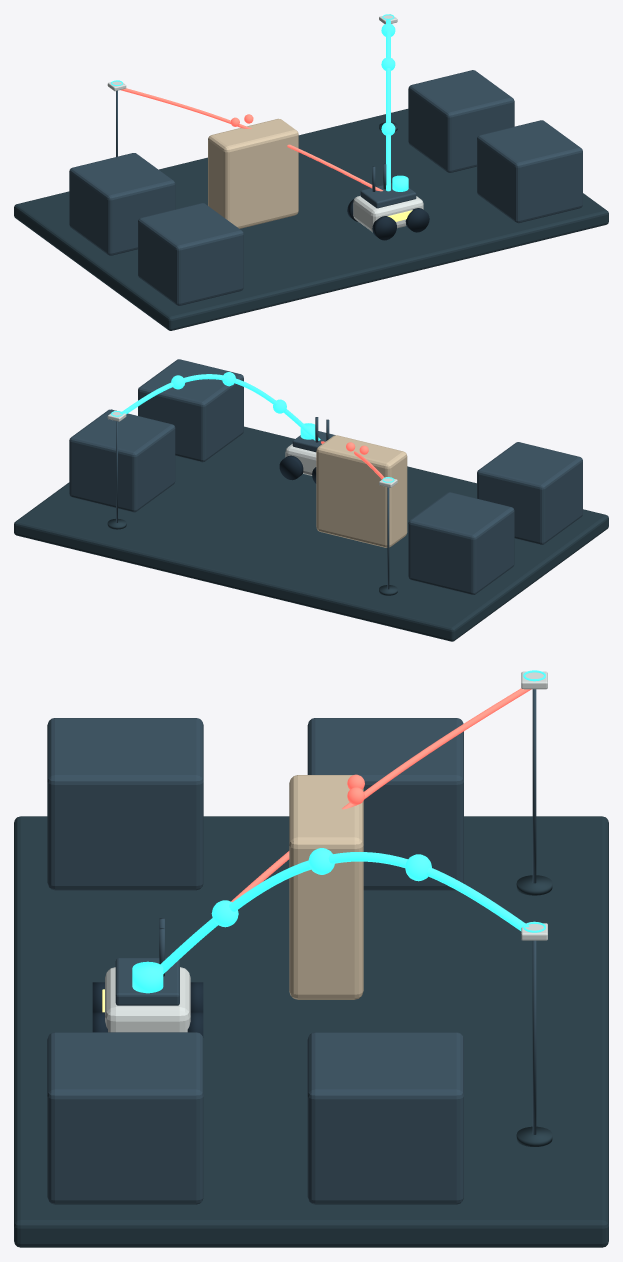
The model's file is diversity.glb.
3 renders of one model, top to bottom at view 1: azimuth 30°, elevation 25°; view 2: azimuth 150°, elevation 25°; view 3: azimuth 270°, elevation 25°, orthographic. The views are drawn at different scales.
Visible parts, largest first — view 1: Aisle, Rack, Rack.002, Occluding stock, Rack.003, Rack.001, Dual-radio robot_base, blocked path, Dual-radio robot_deck, independent path, Dual-radio robot_wheel, Dual-radio robot_wheel.002; view 2: Aisle, Rack.001, Rack.003, Occluding stock, Rack, Rack.002, independent path, Dual-radio robot_base, Dual-radio robot_wheel.003, Dual-radio robot_deck; view 3: Aisle, Rack, Rack.002, Rack.003, Rack.001, Occluding stock, independent path, Dual-radio robot_base, Dual-radio robot_deck, blocked path, AP A_mast, AP B_mast (+1 smaller).
Boxes of the visible parts, x1=… form: Aisle: x1=14, y1=109, x2=608, y2=330; Rack: x1=138, y1=203, x2=243, y2=305; Rack.002: x1=477, y1=120, x2=582, y2=223; Occluding stock: x1=208, y1=118, x2=298, y2=228; Rack.003: x1=408, y1=70, x2=514, y2=172; Rack.001: x1=69, y1=153, x2=175, y2=255; Dual-radio robot_base: x1=353, y1=195, x2=423, y2=232; blocked path: x1=120, y1=88, x2=383, y2=191; Dual-radio robot_deck: x1=360, y1=183, x2=416, y2=208; independent path: x1=386, y1=19, x2=390, y2=191; Dual-radio robot_wheel: x1=372, y1=216, x2=396, y2=240; Dual-radio robot_wheel.002: x1=405, y1=208, x2=429, y2=232; Aisle: x1=14, y1=426, x2=608, y2=641; Rack.001: x1=408, y1=492, x2=514, y2=594; Rack.003: x1=69, y1=409, x2=175, y2=512; Occluding stock: x1=316, y1=435, x2=407, y2=547; Rack: x1=477, y1=442, x2=582, y2=544; Rack.002: x1=138, y1=359, x2=243, y2=462; independent path: x1=120, y1=374, x2=320, y2=440; Dual-radio robot_base: x1=285, y1=444, x2=316, y2=475; Dual-radio robot_wheel.003: x1=279, y1=455, x2=303, y2=480; Dual-radio robot_deck: x1=292, y1=431, x2=335, y2=452; Aisle: x1=14, y1=816, x2=608, y2=1247; Rack: x1=47, y1=718, x2=203, y2=890; Rack.002: x1=47, y1=1032, x2=203, y2=1204; Rack.003: x1=307, y1=1032, x2=463, y2=1204; Rack.001: x1=307, y1=718, x2=463, y2=890; Occluding stock: x1=289, y1=775, x2=363, y2=999; independent path: x1=160, y1=852, x2=529, y2=973; Dual-radio robot_base: x1=105, y1=967, x2=190, y2=1032; Dual-radio robot_deck: x1=115, y1=958, x2=179, y2=1005; blocked path: x1=231, y1=688, x2=531, y2=902; AP A_mast: x1=532, y1=689, x2=536, y2=883; AP B_mast: x1=532, y1=940, x2=536, y2=1134.
Bounding box in the file's own units: 13 × 4.27 × 8.
